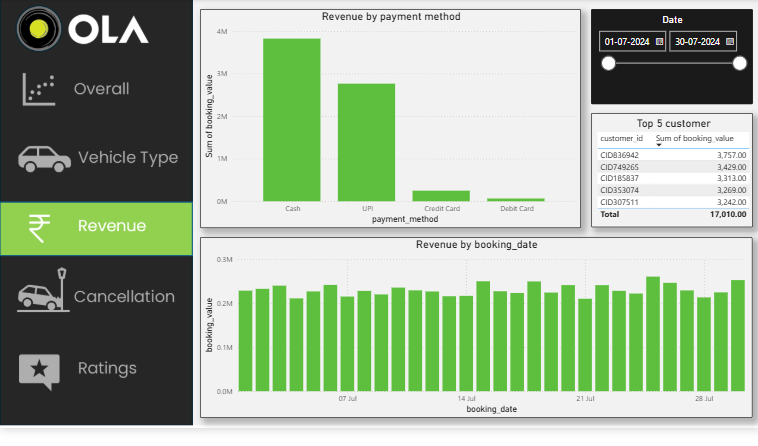

What the dashboard file says about the page in this screenshot:
{"tool":"powerbi","page":{"name":"Revenue","canvas":[1280,720],"ordinal":2},"visuals":[{"type":"actionButton","box":[0,224,320,80],"z":0},{"type":"actionButton","box":[0,208,320,96],"z":1000},{"type":"actionButton","box":[0,448,320,96],"z":2000},{"type":"actionButton","box":[0,576,320,96],"z":3000},{"type":"actionButton","box":[0,96,320,96],"z":4000},{"type":"columnChart","title":"Revenue by payment method","fields":{"Y":["Sum(ola_db bookings_final.booking_value)"],"Category":["ola_db bookings_final.payment_method"]},"box":[336,16,640,368],"z":5000},{"type":"columnChart","title":"Revenue by booking_date","fields":{"Y":["Sum(ola_db bookings_final.booking_value)"],"Category":["ola_db bookings_final.booking_date"]},"box":[336,400,928,304],"z":6000},{"type":"slicer","title":"Date","fields":{"Values":["ola_db bookings_final.booking_date"]},"box":[992,16,272,160],"z":7000},{"type":"tableEx","title":"Top 5 customer","fields":{"Values":["ola_db bookings_final.customer_id","Sum(ola_db bookings_final.booking_value)"]},"box":[992,192,272,192],"z":8000}]}

Visuals, with their boxes on the page's 1280x720 design canvas (x1, y1, x2, y2). These are canvas units, not pixel positions in the 758x446 screenshot, which may show the page scaled, cropped or inside an application window:
actionButton: <region>0, 224, 320, 304</region>
actionButton: <region>0, 208, 320, 304</region>
actionButton: <region>0, 448, 320, 544</region>
actionButton: <region>0, 576, 320, 672</region>
actionButton: <region>0, 96, 320, 192</region>
"Revenue by payment method" columnChart: <region>336, 16, 976, 384</region>
"Revenue by booking_date" columnChart: <region>336, 400, 1264, 704</region>
"Date" slicer: <region>992, 16, 1264, 176</region>
"Top 5 customer" tableEx: <region>992, 192, 1264, 384</region>
